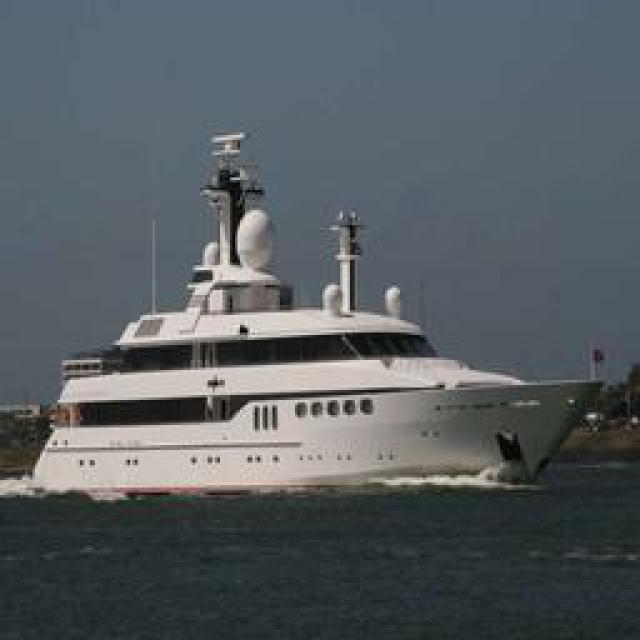Ship: (32, 155, 605, 490)
